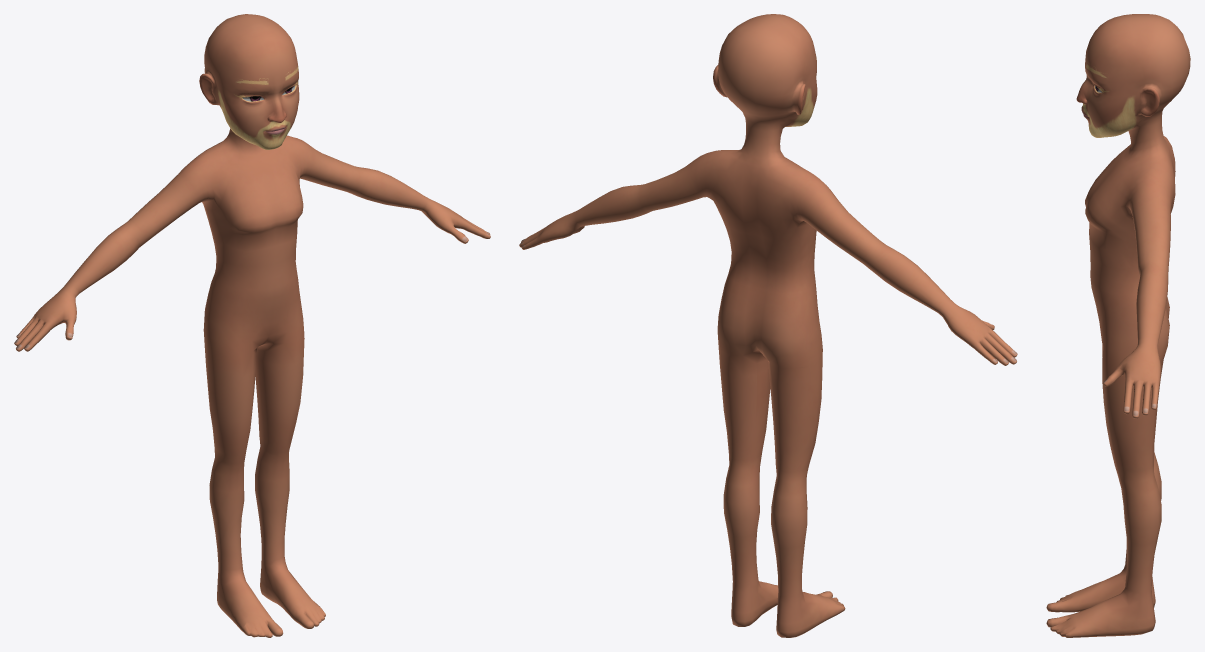
The model's file is frame_0007.glb.
3 views of the same model, side by side, from view 1: azimuth 30°, elevation 25°; view 2: azimuth 150°, elevation 25°; view 3: azimuth 270°, elevation 25° (orthographic). The views are drawn at different scales.
Parts seen in each view (by area): view 1: frame_0007_head_geo; view 2: frame_0007_head_geo; view 3: frame_0007_head_geo.
Part boxes in pixels (left/top/right/bottom): frame_0007_head_geo: left=14, top=14, right=490, bottom=637; frame_0007_head_geo: left=519, top=14, right=1017, bottom=637; frame_0007_head_geo: left=1046, top=14, right=1190, bottom=637.
Bounding box in the file's own units: 1.28 × 1.5 × 0.3253.
Materials: 3 (3 with a texture image).
